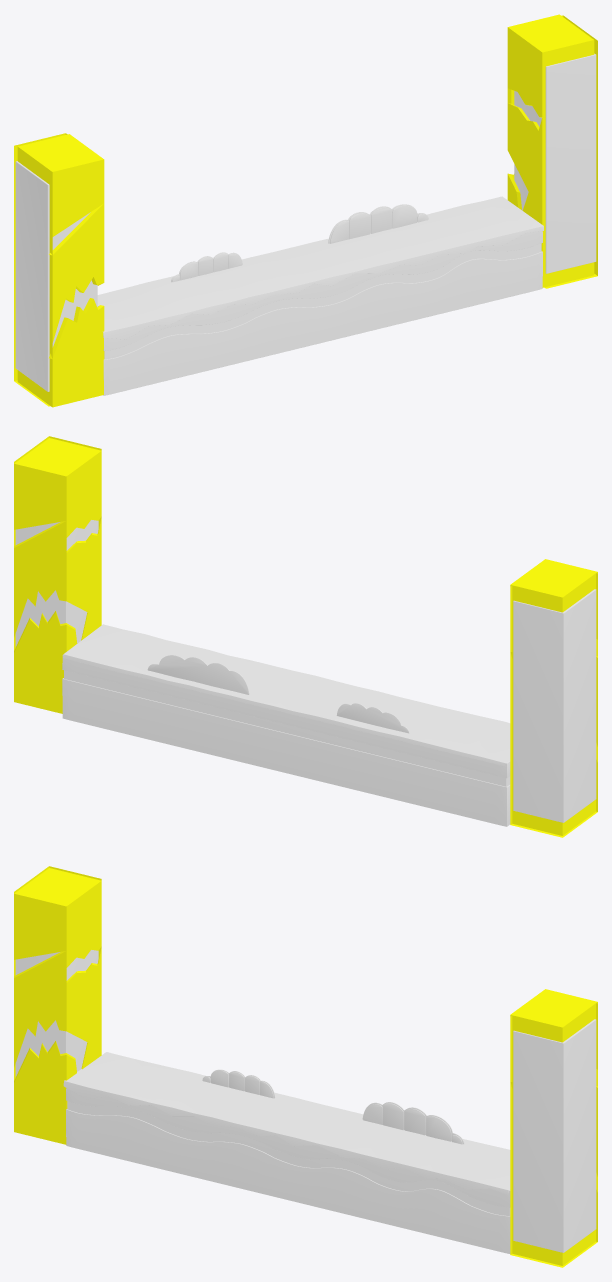
The picture shows the model from 3 angles, top to bottom: view 1: azimuth 30°, elevation 25°; view 2: azimuth 150°, elevation 25°; view 3: azimuth 330°, elevation 25°; orthographic projection.
Parts seen in each view (by area): view 1: Cube.002, Cube.001, Cube.006, Cube.008, Cube.007, Cube.005, Cube, BezierCurve.002, BezierCurve; view 2: Cube.002, Cube.007, Cube.005, Cube.001, Cube.006, Cube, Cube.008, BezierCurve.002, BezierCurve; view 3: Cube.002, Cube.001, Cube.006, Cube.008, Cube.007, Cube, Cube.005, BezierCurve.002, BezierCurve.
Part boxes in pixels (x1,y1,x2,y2): Cube.002: [103, 231, 542, 395]; Cube.001: [97, 196, 543, 339]; Cube.006: [14, 133, 104, 407]; Cube.008: [514, 53, 596, 273]; Cube.007: [507, 14, 597, 288]; Cube.005: [15, 161, 97, 391]; Cube: [104, 243, 541, 359]; BezierCurve.002: [328, 204, 428, 243]; BezierCurve: [171, 252, 242, 282]; Cube.002: [62, 655, 510, 826]; Cube.007: [14, 436, 101, 713]; Cube.005: [513, 589, 596, 822]; Cube.001: [63, 624, 510, 766]; Cube.006: [510, 559, 597, 837]; Cube: [64, 670, 510, 786]; Cube.008: [15, 520, 98, 646]; BezierCurve.002: [147, 655, 249, 694]; BezierCurve: [336, 703, 409, 733]; Cube.002: [66, 1088, 510, 1253]; Cube.001: [63, 1052, 510, 1195]; Cube.006: [14, 866, 101, 1144]; Cube.008: [513, 1019, 596, 1252]; Cube.007: [510, 989, 597, 1267]; Cube: [67, 1101, 510, 1216]; Cube.005: [15, 950, 98, 1076]; BezierCurve.002: [362, 1102, 464, 1144]; BezierCurve: [202, 1069, 274, 1098].
Size of the model in its own units: 51.03 by 21.14 by 6.78.
Materials: 8 (2 with a texture image).
